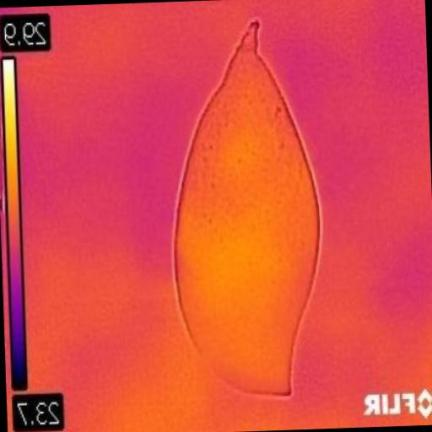mango: (174, 20, 319, 393)
